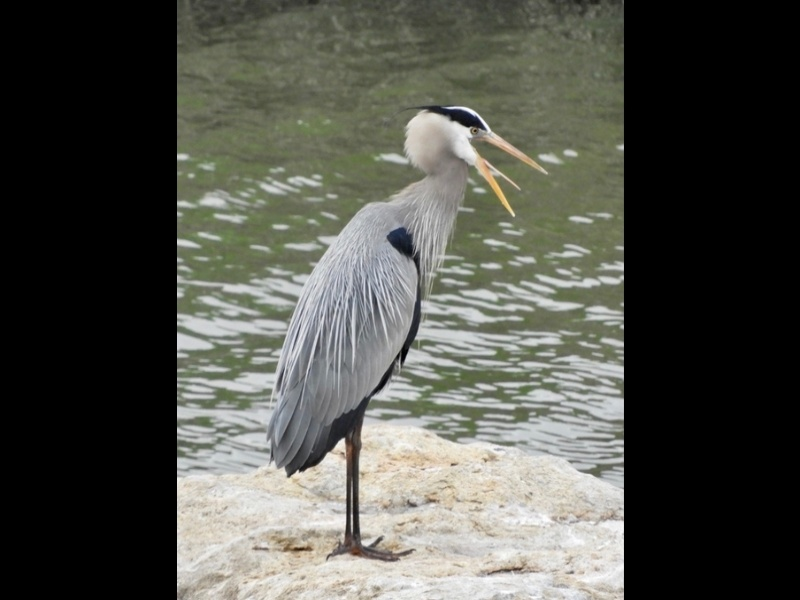heron: (264, 101, 555, 564)
